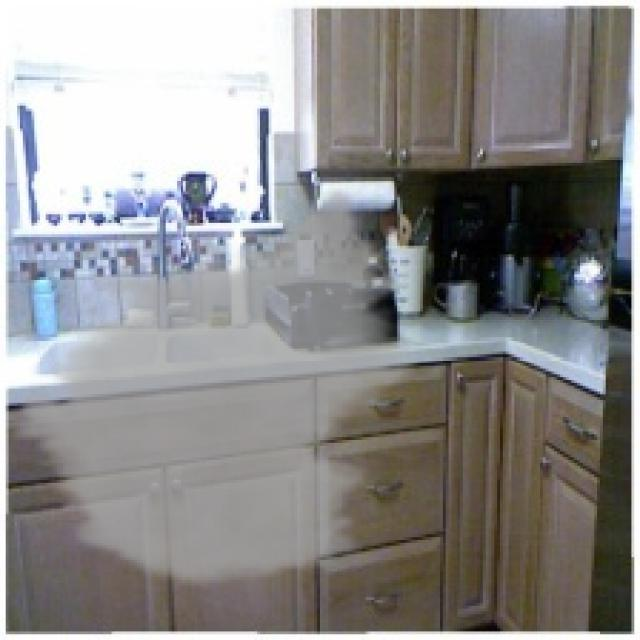Smoke: (2, 186, 428, 592)
